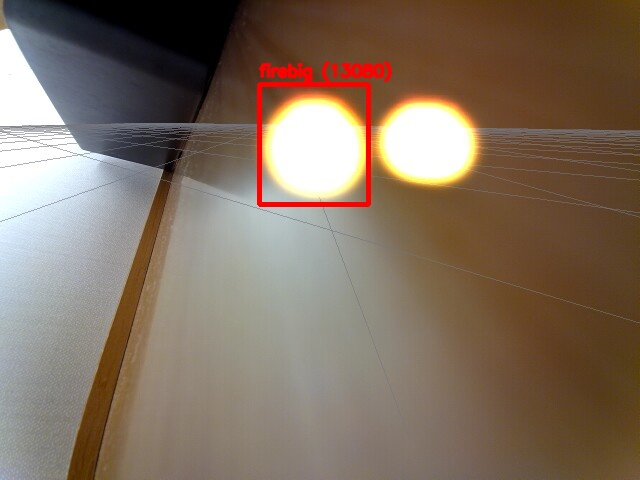firebig: (259, 84, 368, 204)
